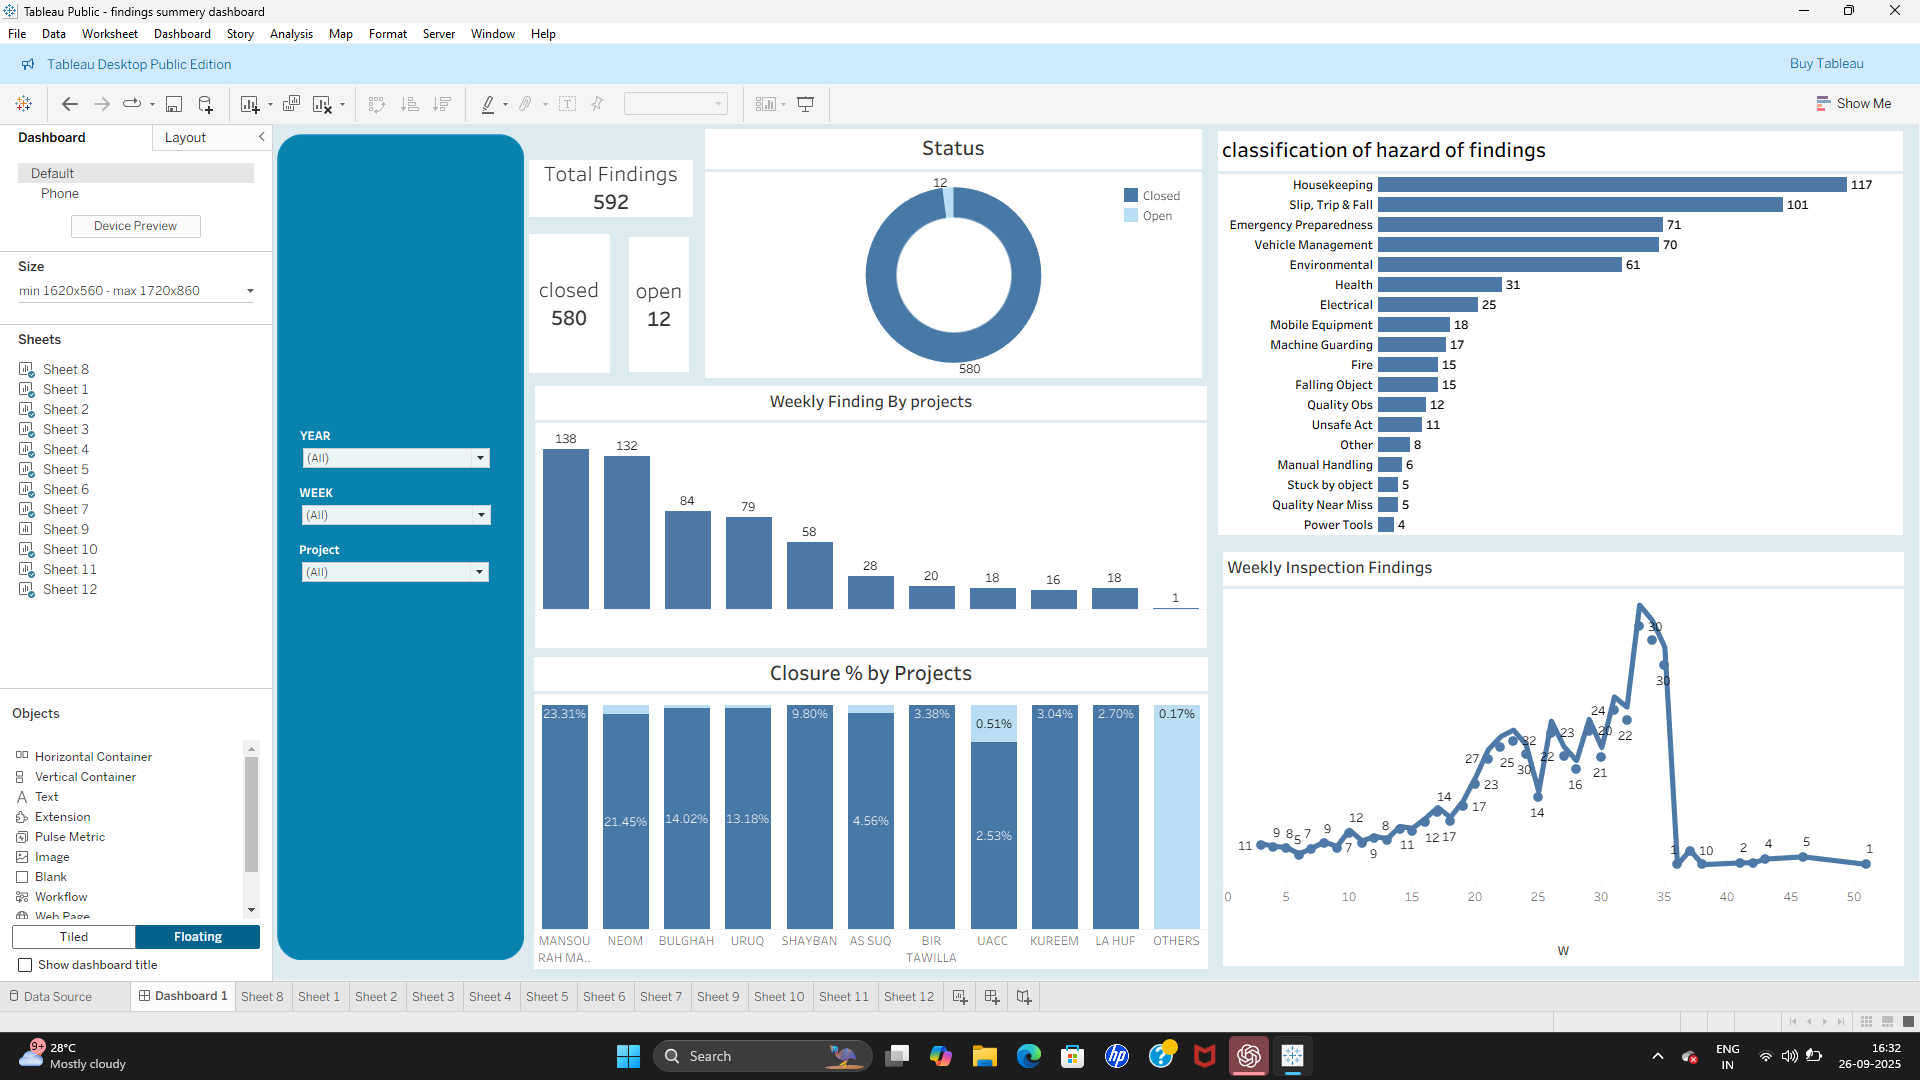

This screenshot's page, from the dashboard's own definition file:
{"tool":"tableau","page":{"name":"Dashboard 1","canvas":[1000,1000],"units":"permille","ordinal":0},"visuals":[{"type":"image","param":"C:/Users/hp/Downloads/Rectangle 1 (1).png","box":[1.2,2.3,998.8,997.7]},{"type":"worksheet","title":"Sheet 6","mark":"Automatic","rows":["Classification Of Hazards Findings"],"cols":["Calculation_1191202156517654528"],"box":[573.8,8.2,416.3,483.1]},{"type":"title","box":[4.7,9.3,990.6,49.1]},{"type":"worksheet","title":"Sheet 5","mark":"Circle","rows":["Calculation_889179506762993664","Calculation_889179506762993664"],"box":[282,9.3,282.6,287.4]},{"type":"worksheet","title":"Sheet 4","mark":"Automatic","box":[156.8,35.1,112.9,68.9]},{"type":"legend","title":"Sheet 5","param":"[federated.074onkm12s62cl199lqw50p2kpj1].[none:Action Status?:nk]","box":[515.1,71.2,48.3,46.7]},{"type":"worksheet","title":"Sheet 3","mark":"Automatic","box":[159.2,140.2,49.1,127.3]},{"type":"worksheet","title":"Sheet 2","mark":"Automatic","box":[228.8,141.4,37.5,125]},{"type":"worksheet","title":"Sheet 1","mark":"Bar","rows":["W"],"cols":["Project"],"box":[157,305.7,410.5,306.9]},{"type":"worksheet","title":"Sheet 8","mark":"Line","rows":["SN","SN"],"cols":["W"],"box":[577.3,500.6,413.9,483.1]},{"type":"worksheet","title":"Sheet 7","mark":"Bar","cols":["Project"],"box":[154.7,623.1,413.4,364.1]}]}

Visuals, with their boxes on the dashboard's canvas, which has no fixed pixel size, in thousandths of its width and height (x1, y1, x2, y2). These are canvas units, not pixel positions in the 1920x1080 screenshot, which may show the page scaled, cropped or inside an application window:
image: box=[1, 2, 1000, 1000]
"Sheet 6" worksheet: box=[574, 8, 990, 491]
title: box=[5, 9, 995, 58]
"Sheet 5" worksheet (Circle marks): box=[282, 9, 565, 297]
"Sheet 4" worksheet: box=[157, 35, 270, 104]
"Sheet 5" legend: box=[515, 71, 563, 118]
"Sheet 3" worksheet: box=[159, 140, 208, 268]
"Sheet 2" worksheet: box=[229, 141, 266, 266]
"Sheet 1" worksheet (Bar marks): box=[157, 306, 568, 613]
"Sheet 8" worksheet (Line marks): box=[577, 501, 991, 984]
"Sheet 7" worksheet (Bar marks): box=[155, 623, 568, 987]
